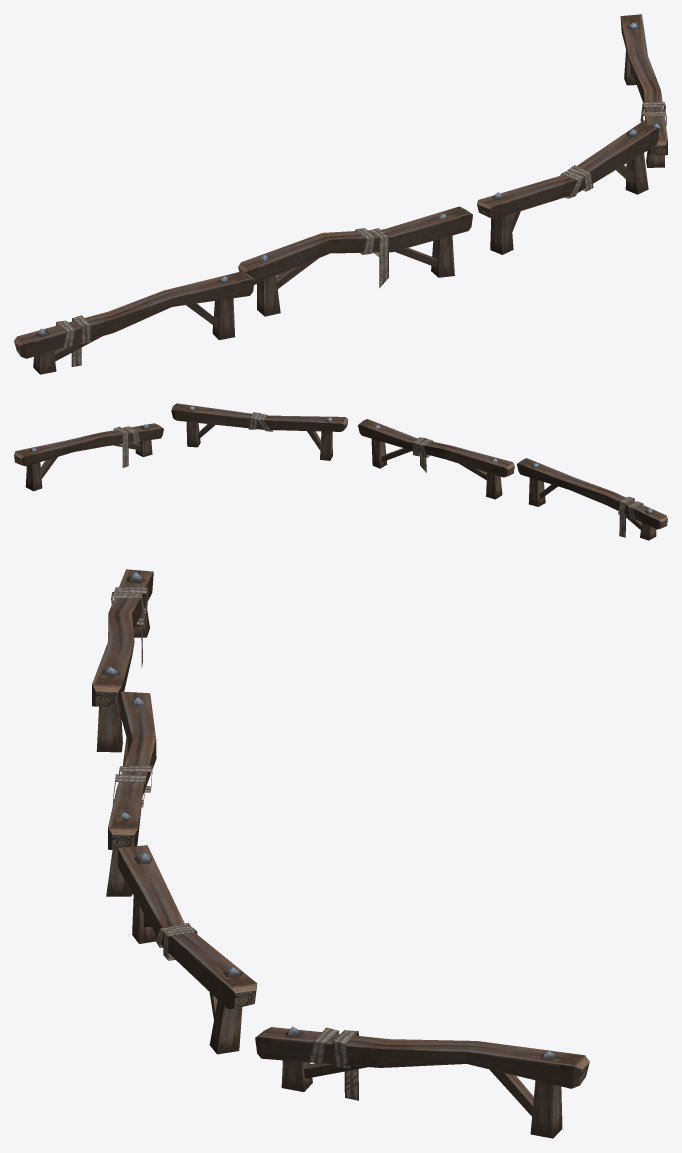
File: object_wooden_fences03.fbx
3 renders of one model, top to bottom at view 1: azimuth 30°, elevation 25°; view 2: azimuth 150°, elevation 25°; view 3: azimuth 270°, elevation 25°, orthographic. The views are drawn at different scales.
Parts seen in each view (by area): view 1: obj1.039; view 2: obj1.039; view 3: obj1.039.
Boxes of the visible parts, box(x1,y1,x2,y2) form: obj1.039: box(14, 14, 667, 374); obj1.039: box(14, 403, 667, 540); obj1.039: box(92, 569, 589, 1138).
Bounding box in the file's own units: 21.7 × 1.89 × 8.64.
